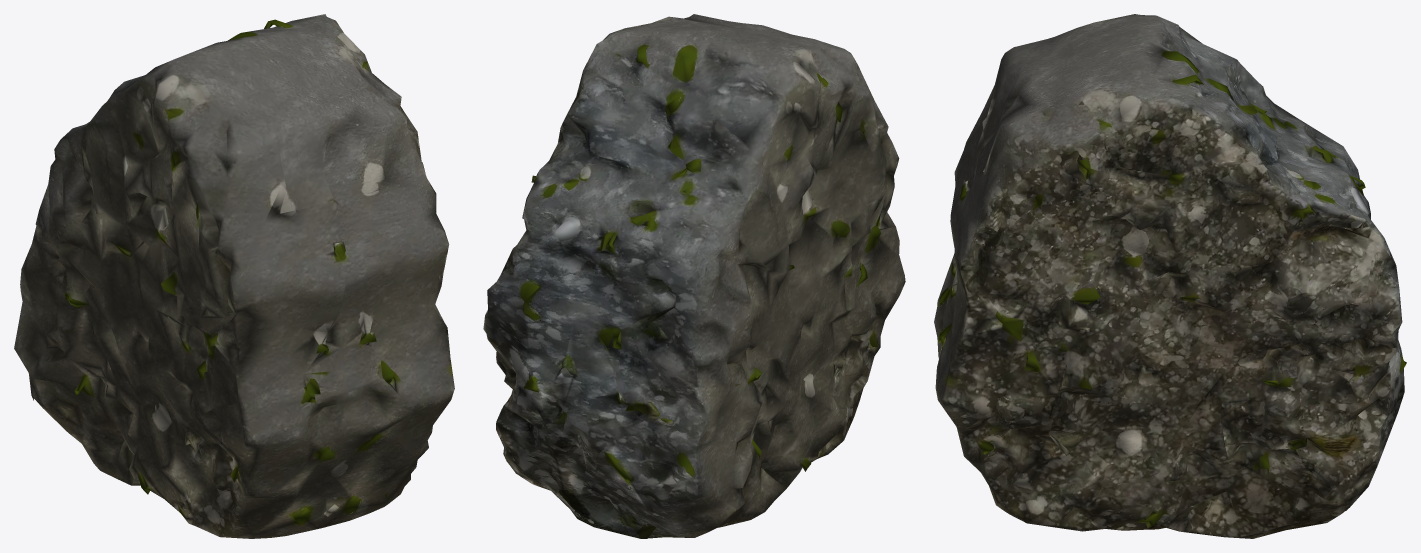
File: grave-natural.glb
The picture shows the model from 3 angles, left to right: view 1: azimuth 30°, elevation 25°; view 2: azimuth 150°, elevation 25°; view 3: azimuth 270°, elevation 25°; orthographic projection. The views are drawn at different scales.
Parts seen in each view (by area): view 1: tripo_node_404dc237-ef42-4f95-8600-2e46e83d67a4; view 2: tripo_node_404dc237-ef42-4f95-8600-2e46e83d67a4; view 3: tripo_node_404dc237-ef42-4f95-8600-2e46e83d67a4.
Boxes of the visible parts, x1,y1,x2,y2 form: tripo_node_404dc237-ef42-4f95-8600-2e46e83d67a4: (14, 14, 454, 538); tripo_node_404dc237-ef42-4f95-8600-2e46e83d67a4: (483, 14, 905, 538); tripo_node_404dc237-ef42-4f95-8600-2e46e83d67a4: (934, 14, 1406, 538).
Size of the model in its own units: 0.5856 by 0.9996 by 0.9477.
Materials: 1 (1 with a texture image).
